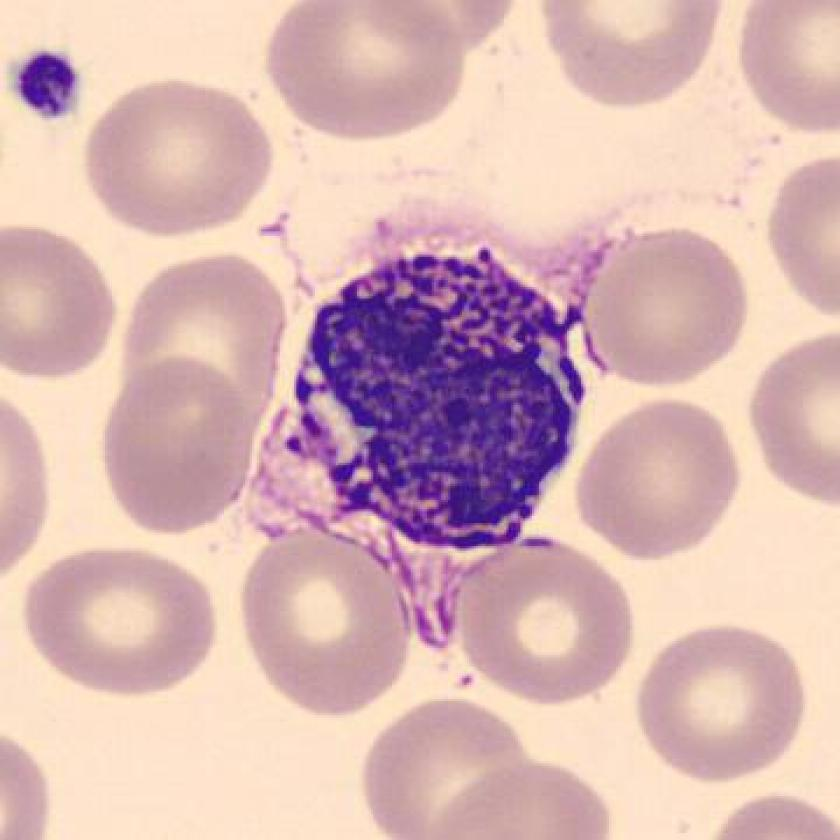basophil: (279, 237, 603, 570)
